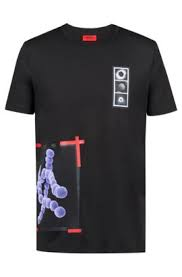T-Shirt: (3, 21, 178, 255)
